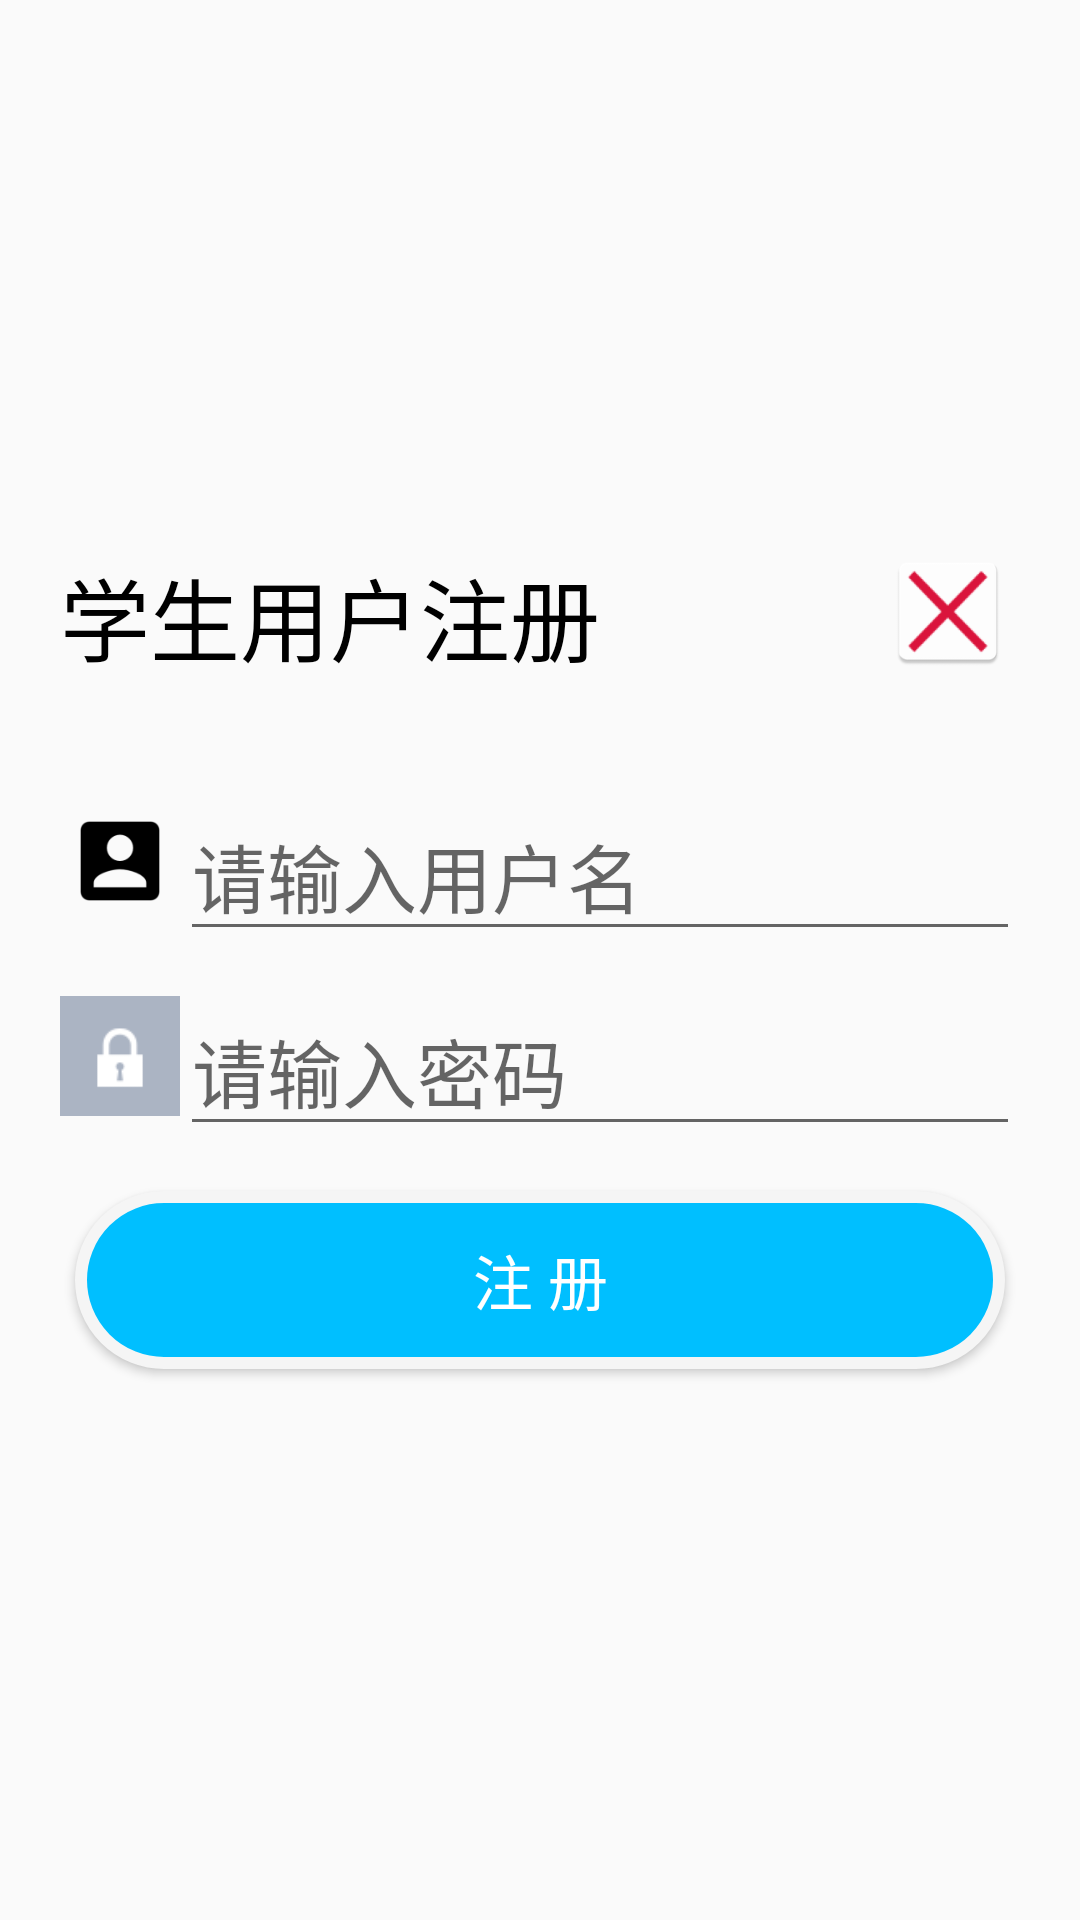

Where to tap for icons on this 1080 x 1920 app screen, as point (x, y):
close: point (948, 617)
password: point (120, 1056)
user: point (120, 861)
